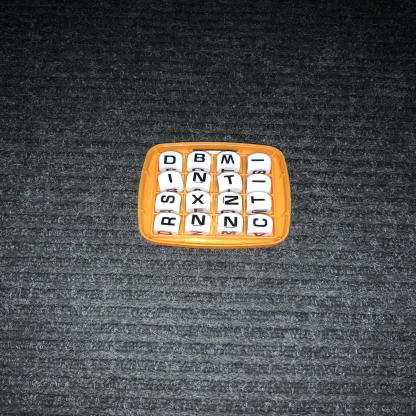b: (191, 151, 211, 167)
c: (251, 216, 270, 231)
d: (160, 153, 182, 168)
i: (248, 175, 272, 191), (159, 171, 182, 187), (248, 153, 270, 169)
n: (221, 214, 243, 232), (219, 194, 243, 209), (189, 213, 210, 230), (189, 171, 212, 186)
r: (157, 214, 182, 230)
s: (158, 193, 181, 208)
t: (248, 193, 272, 210), (220, 173, 242, 189)
w: (218, 151, 240, 169)
x: (189, 193, 209, 208)
